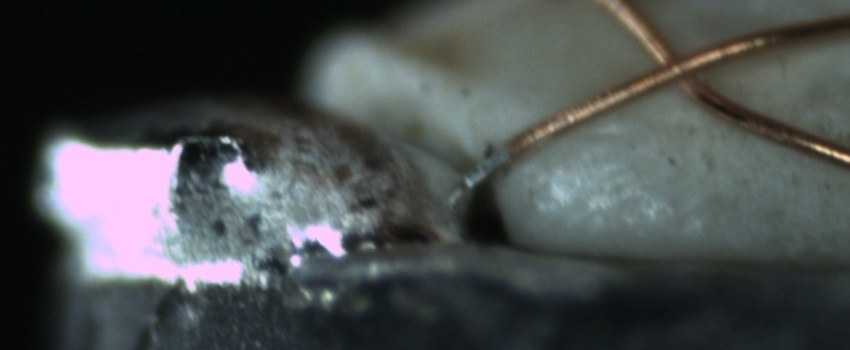CL: (631, 34, 722, 105)
DL: (556, 109, 646, 165)
TS: (461, 148, 509, 191)
